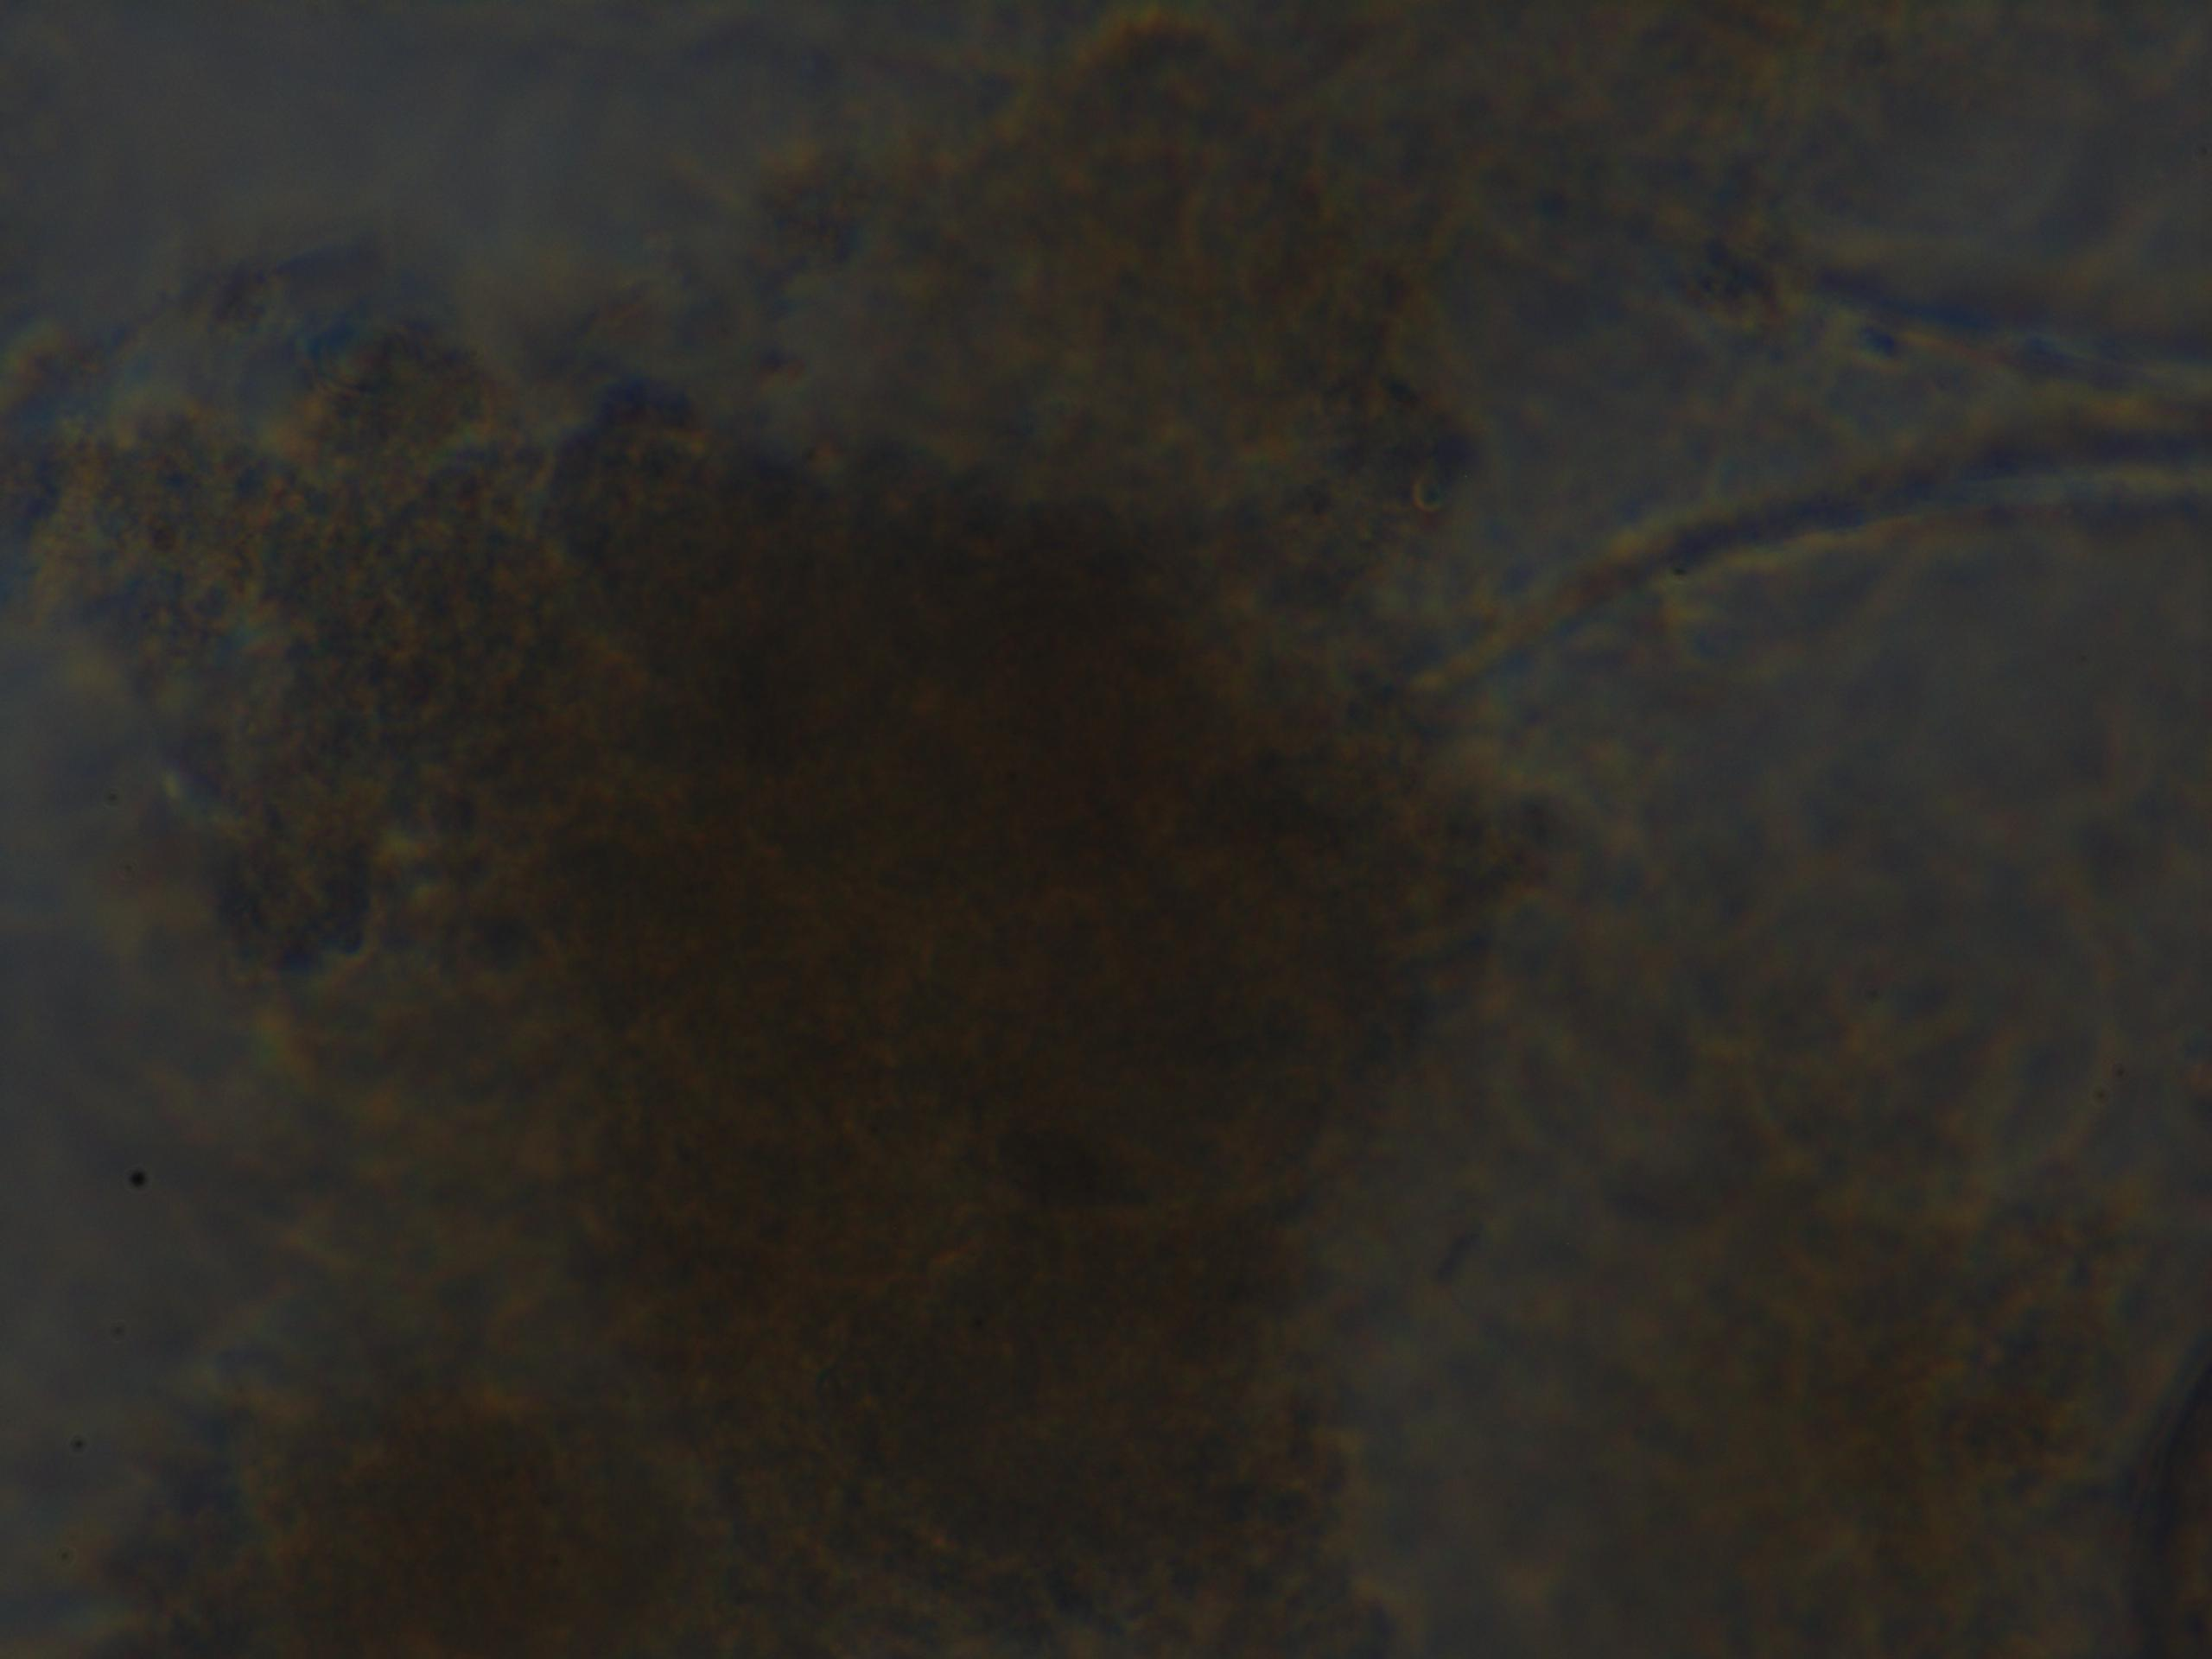filament: (1449, 389, 2212, 690)
